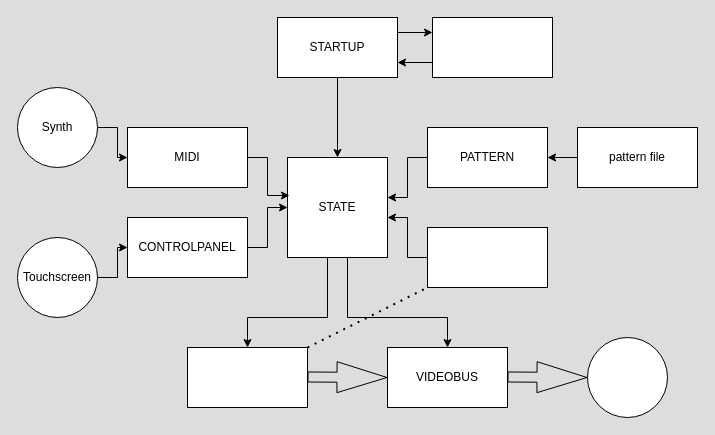
This 715x435 diagram has some shape labels left out. Here are the shapes that lost their labels. From the top down, the box of each, then its label:
(432, 16, 552, 78): SETTINGS
(426, 226, 548, 288): VIDEOLIBRARY
(186, 346, 308, 408): VIDEOPLAYERS
(586, 336, 668, 418): Projector(s)
